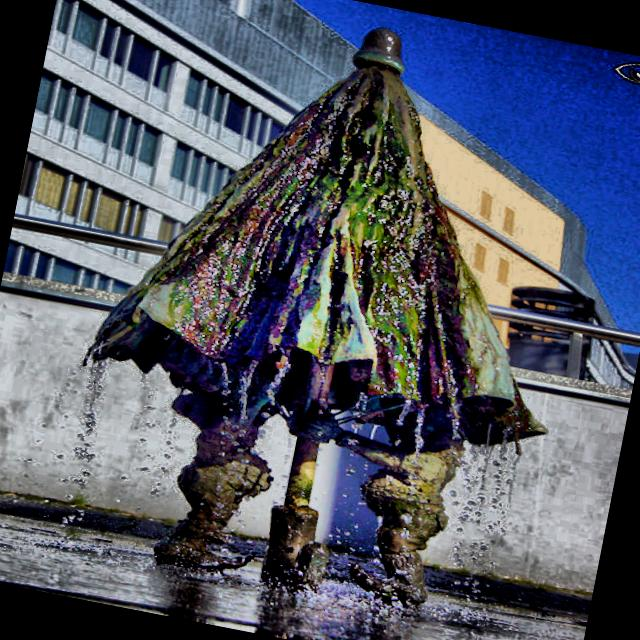Parasolniki: (83, 29, 548, 608)
